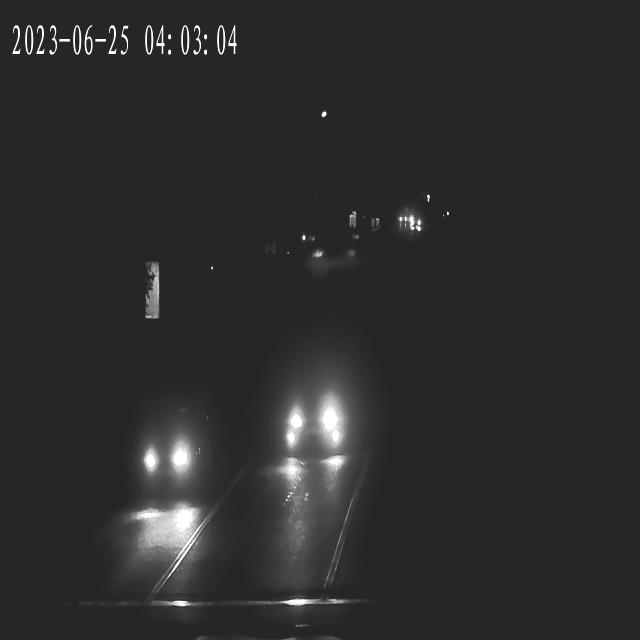Car: (131, 393, 209, 495), (280, 368, 352, 458), (406, 221, 424, 235)
